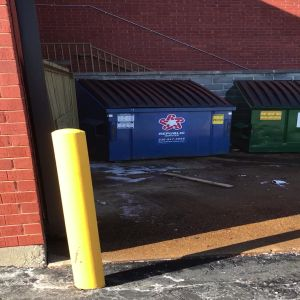Dumpster: (72, 78, 237, 163), (227, 77, 300, 155)
